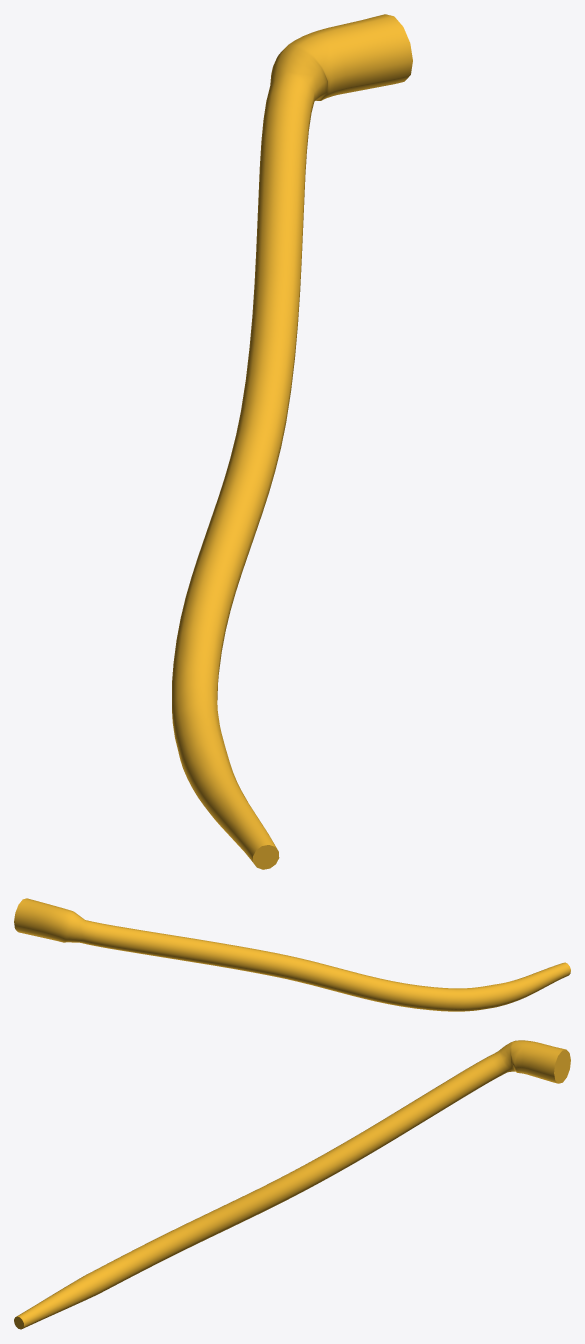
File: nervoso-optic-nerve-ii-r.glb
3 views of the same model, one above another, from view 1: azimuth 30°, elevation 25°; view 2: azimuth 150°, elevation 25°; view 3: azimuth 330°, elevation 25° (orthographic). The views are drawn at different scales.
Parts seen in each view (by area): view 1: Optic nerve (II).r; view 2: Optic nerve (II).r; view 3: Optic nerve (II).r.
Boxes of the visible parts, left/top/right/bottom form: Optic nerve (II).r: left=172, top=14, right=412, bottom=869; Optic nerve (II).r: left=14, top=898, right=570, bottom=1011; Optic nerve (II).r: left=14, top=1040, right=570, bottom=1329.
Size of the model in its own units: 0.0305 by 0.0167 by 0.0425.
